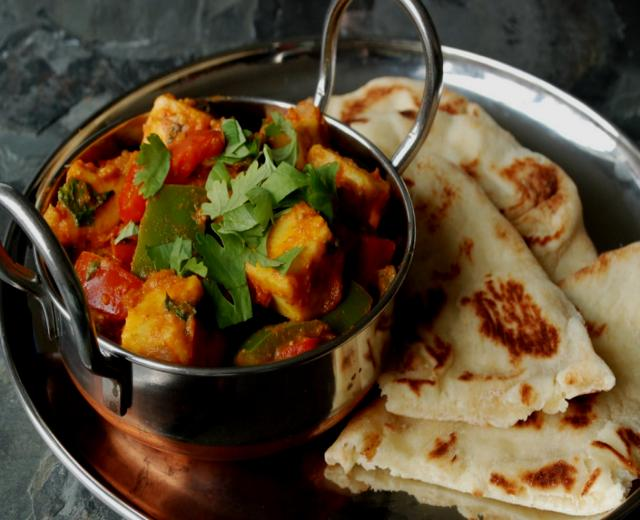kadai paneer: (0, 3, 409, 438), (314, 76, 638, 517), (0, 2, 629, 154), (34, 39, 314, 142), (1, 359, 100, 520), (6, 0, 275, 58), (0, 92, 115, 183), (131, 95, 226, 198), (42, 157, 130, 257), (129, 184, 211, 282), (567, 155, 638, 254), (328, 2, 434, 60), (201, 156, 273, 232), (73, 250, 143, 322), (270, 156, 335, 228), (124, 451, 196, 506), (0, 240, 45, 302), (41, 202, 80, 252), (420, 180, 458, 231), (38, 296, 58, 335)
